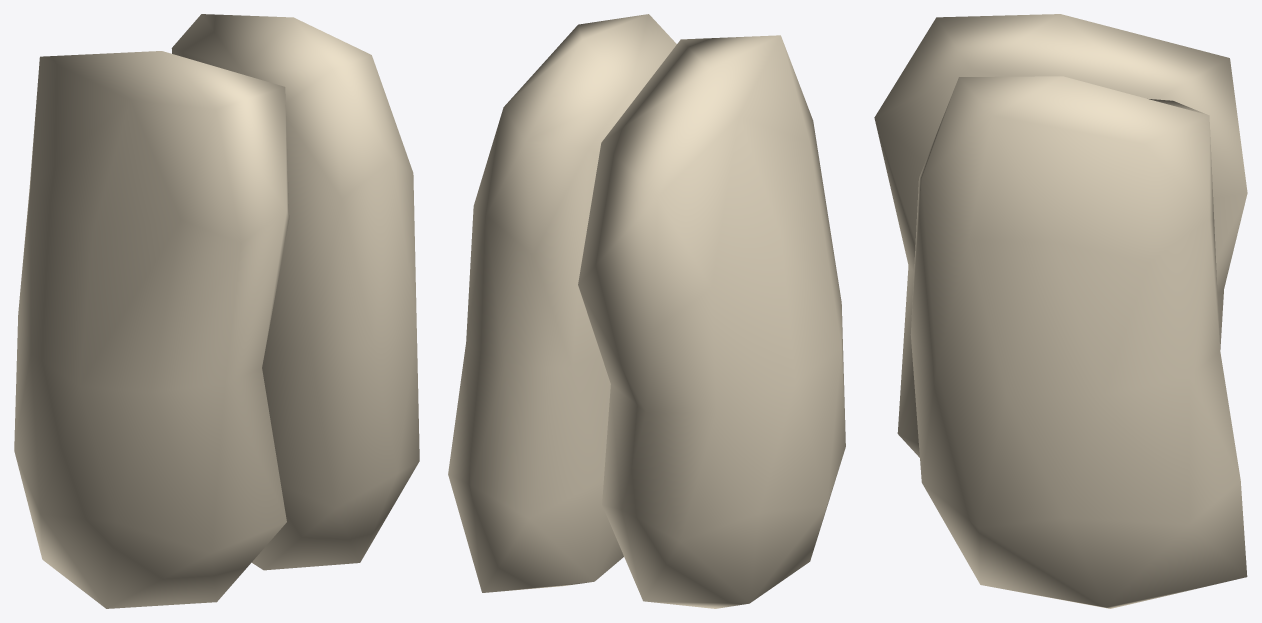
Rendered from middle-cells-of-ethmoid-bone-r.glb.
3 renders of one model, left to right at view 1: azimuth 30°, elevation 25°; view 2: azimuth 150°, elevation 25°; view 3: azimuth 270°, elevation 25°, orthographic. The views are drawn at different scales.
Parts seen in each view (by area): view 1: Middle cells of ethmoid bone.r; view 2: Middle cells of ethmoid bone.r; view 3: Middle cells of ethmoid bone.r.
Boxes of the visible parts, x1,y1,x2,y2 form: Middle cells of ethmoid bone.r: (14, 14, 419, 608); Middle cells of ethmoid bone.r: (448, 14, 845, 608); Middle cells of ethmoid bone.r: (874, 14, 1247, 608).
Bounding box in the file's own units: 0.00953 × 0.0141 × 0.00893.
